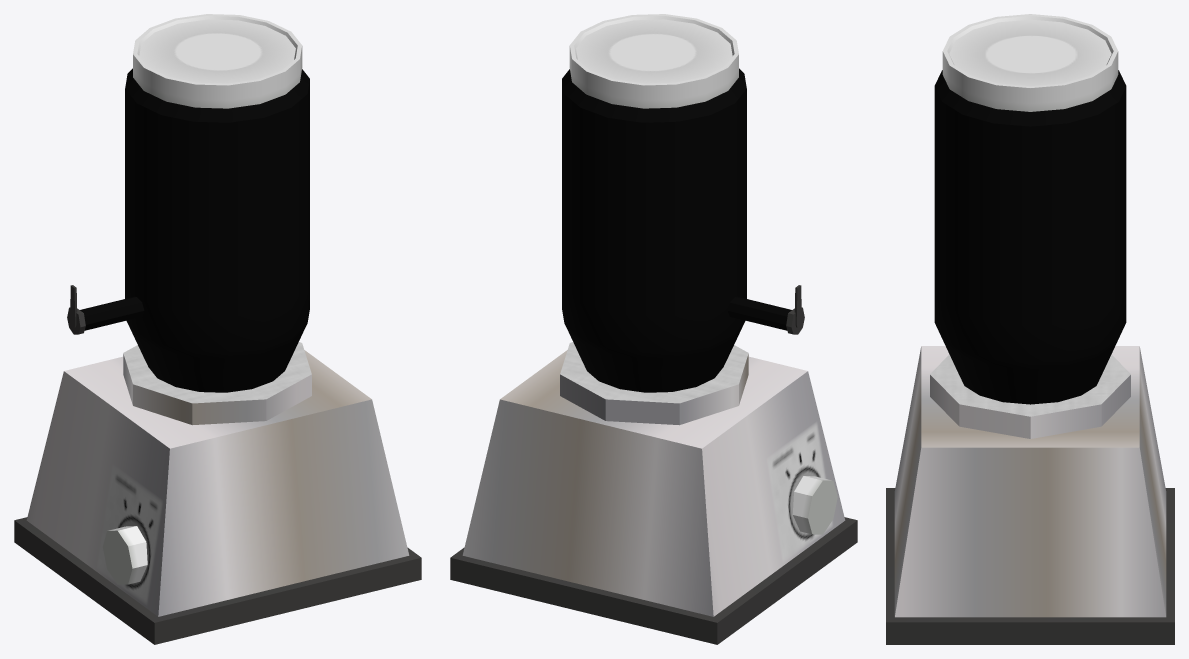
The model's file is JuiceMixer.fbx.
The picture shows the model from 3 angles, left to right: view 1: azimuth 30°, elevation 25°; view 2: azimuth 150°, elevation 25°; view 3: azimuth 270°, elevation 25°; orthographic projection. The views are drawn at different scales.
Parts seen in each view (by area): view 1: JuiceMixer_Body, JuiceMixer_Glass, JuiceMixer_Switch; view 2: JuiceMixer_Body, JuiceMixer_Glass, JuiceMixer_Switch; view 3: JuiceMixer_Body, JuiceMixer_Glass.
Part boxes in pixels (<box>): JuiceMixer_Body: <box>14,14,421,644</box>; JuiceMixer_Glass: <box>80,68,309,392</box>; JuiceMixer_Switch: <box>102,526,147,584</box>; JuiceMixer_Body: <box>450,14,857,644</box>; JuiceMixer_Glass: <box>562,68,791,392</box>; JuiceMixer_Switch: <box>792,476,837,534</box>; JuiceMixer_Body: <box>886,14,1174,644</box>; JuiceMixer_Glass: <box>934,70,1126,404</box>.
Size of the model in its own units: 370 by 648 by 322.
